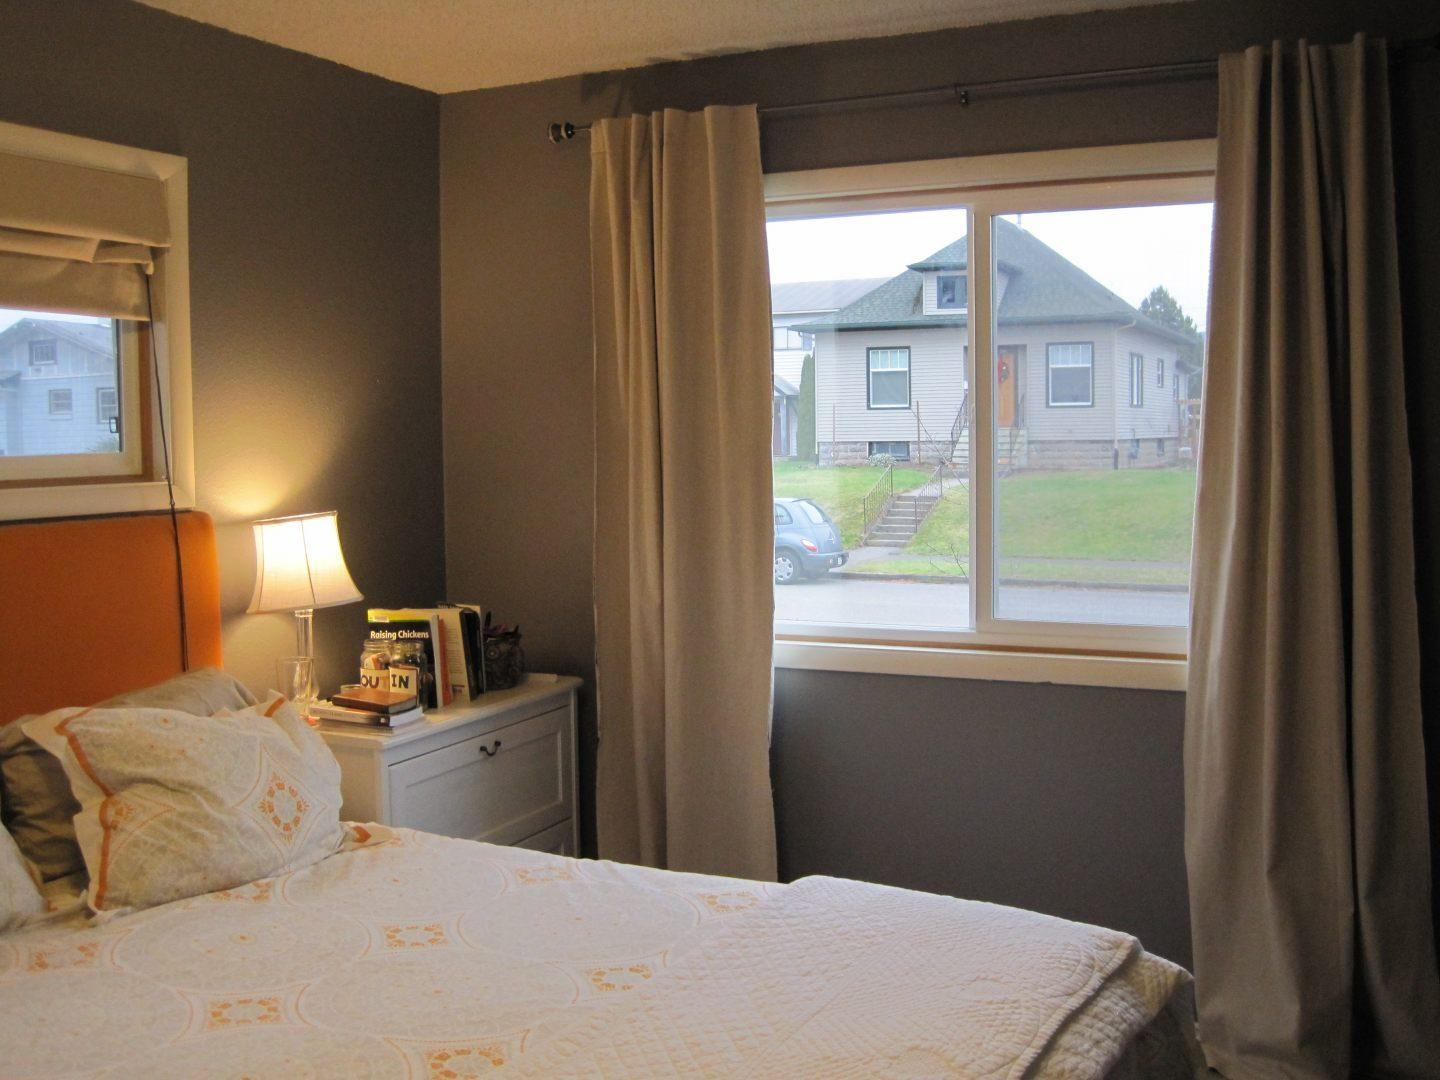bed: (0, 733, 1212, 1080)
